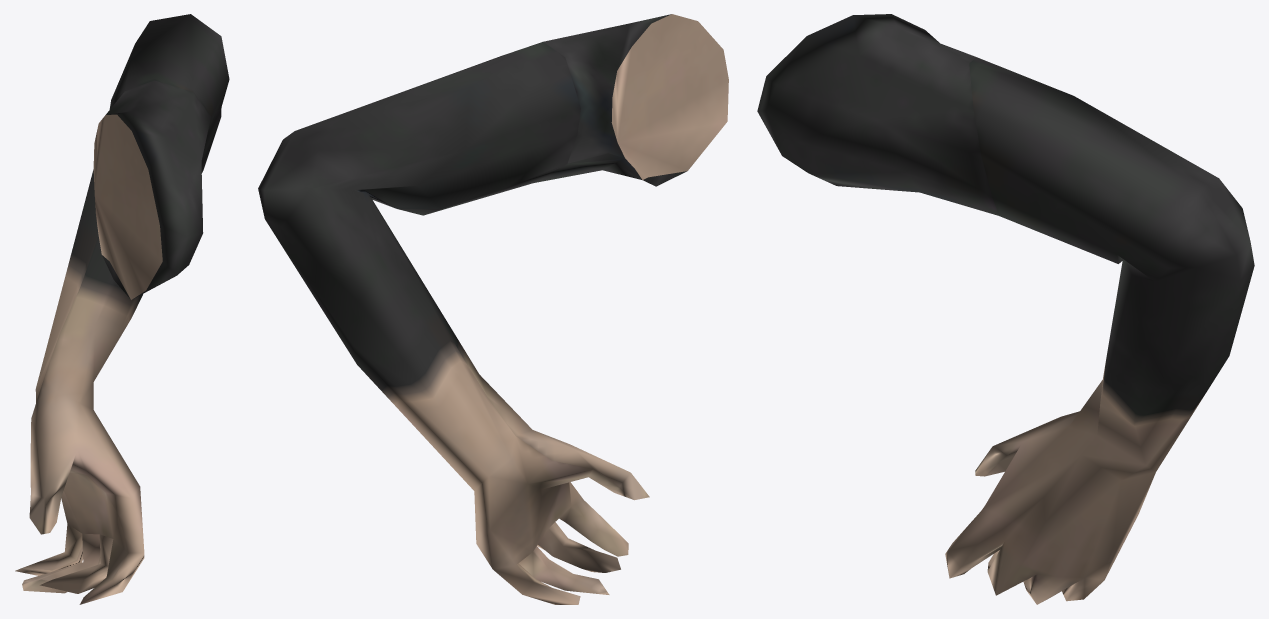
The model's file is dest_nt_nuked_female_02_arm_left_LOD2.obj.
3 views of the same model, side by side, from view 1: azimuth 30°, elevation 25°; view 2: azimuth 150°, elevation 25°; view 3: azimuth 270°, elevation 25° (orthographic). The views are drawn at different scales.
Parts seen in each view (by area): view 1: mtl_nt_2020_manne_fem01_head1; view 2: mtl_nt_2020_manne_fem01_head1; view 3: mtl_nt_2020_manne_fem01_head1.
Boxes of the visible parts, x1,y1,x2,y2 form: mtl_nt_2020_manne_fem01_head1: [15, 14, 229, 604]; mtl_nt_2020_manne_fem01_head1: [258, 14, 728, 604]; mtl_nt_2020_manne_fem01_head1: [757, 14, 1254, 604].
Size of the model in its own units: 21.86 by 39.31 by 31.01.
